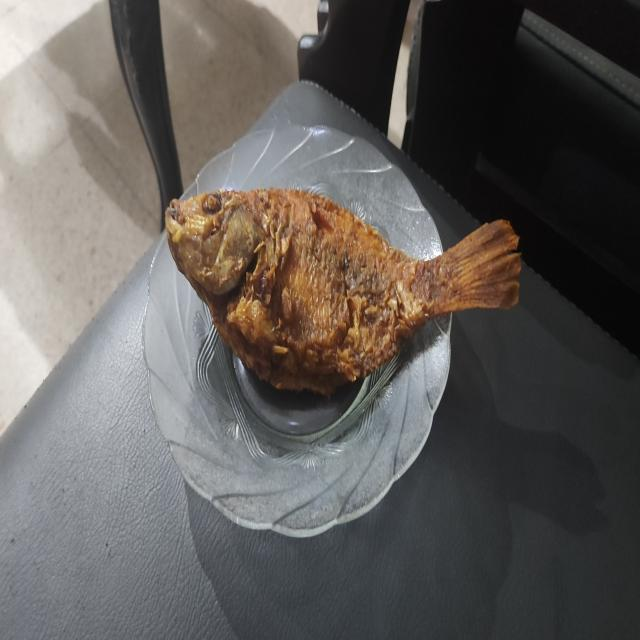ikan_mujair: (165, 188, 520, 394)
